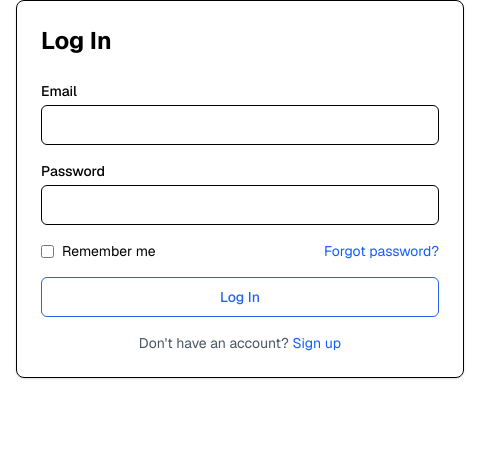
LoginForm › Form Validation › shows error when email is missing
Type "password123" into the password field labelled "Password".
click(240, 205); type("password123")  # box [41,185,439,225]
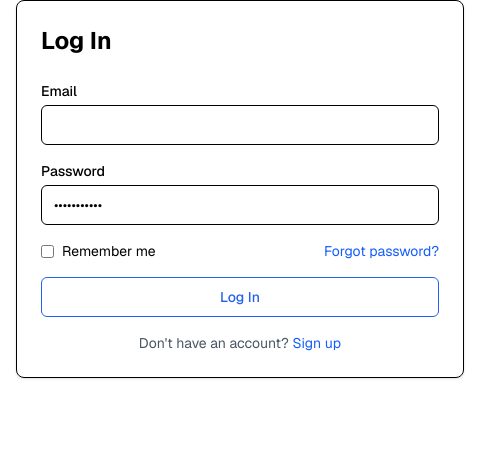
Click the button "Log In".
click(240, 297)  # box [41,277,439,317]
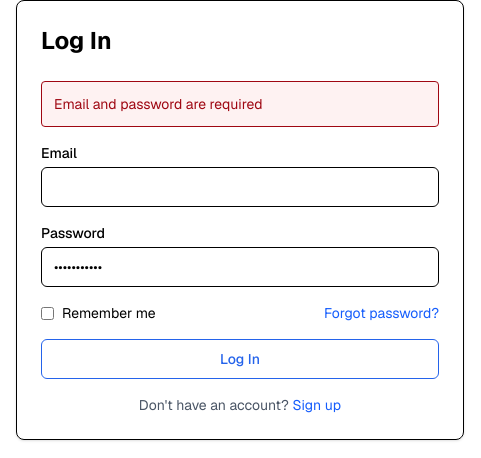
Result: the text "Email and password are required" is shown at [41,81,439,127]
